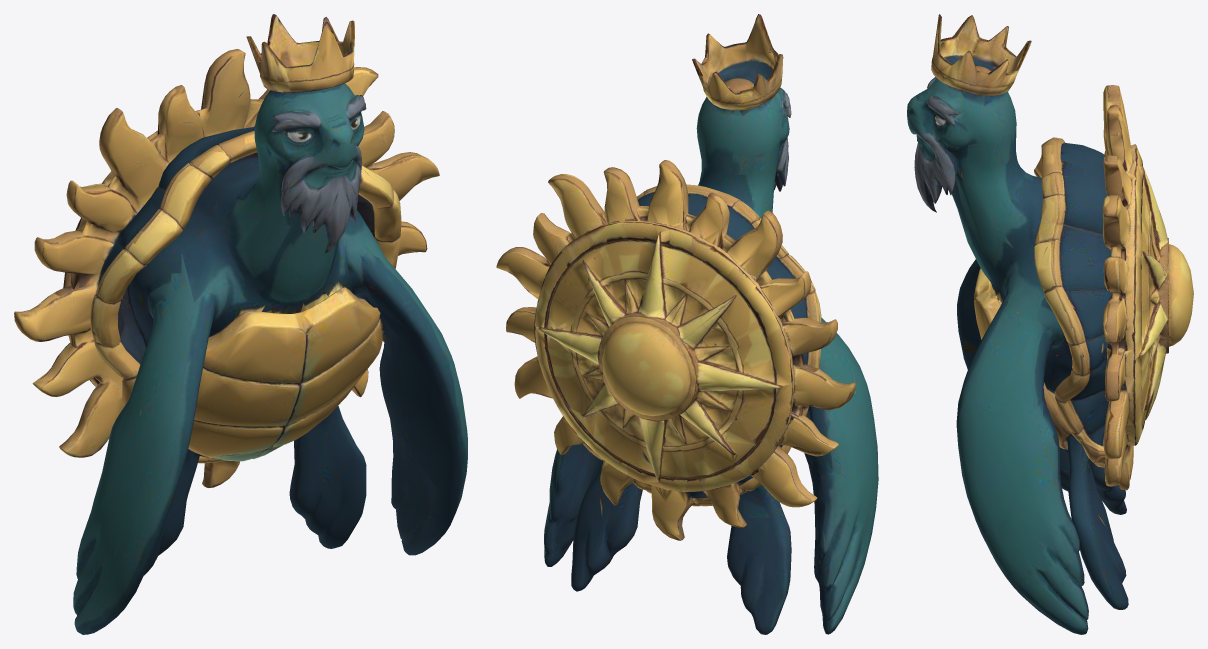
3 views of the same model, side by side, from view 1: azimuth 30°, elevation 25°; view 2: azimuth 150°, elevation 25°; view 3: azimuth 270°, elevation 25° (orthographic). The views are drawn at different scales.
Visible parts, largest first — view 1: Mesh_0; view 2: Mesh_0; view 3: Mesh_0.
Part boxes in pixels (box(x1,y1,x2,y2)): Mesh_0: box(14, 14, 467, 634); Mesh_0: box(496, 14, 878, 634); Mesh_0: box(907, 14, 1193, 634).
Size of the model in its own units: 1.32 by 1.89 by 0.8945.
1 material, 1 textured.
